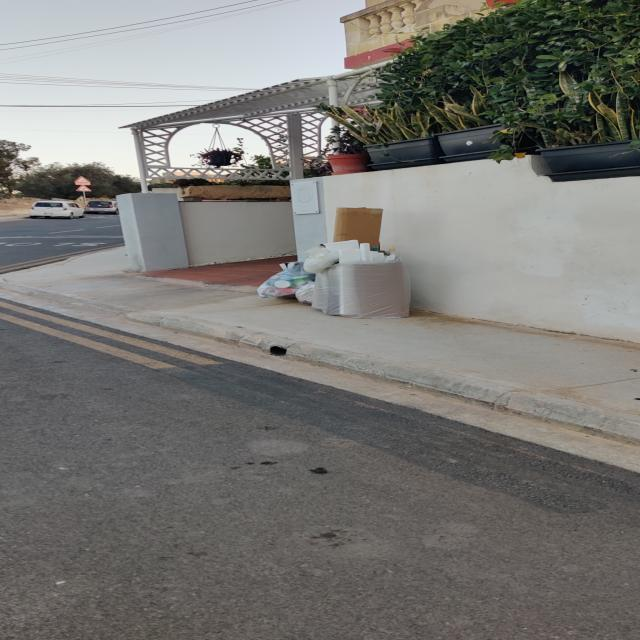Recyclable Material -Grey Bags-: (257, 205, 411, 319)
